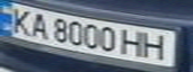0: (100, 24, 121, 54), (81, 21, 100, 51), (66, 19, 84, 47)
8: (48, 16, 69, 44)
A: (24, 11, 51, 39)
H: (139, 30, 175, 62), (118, 27, 148, 57)
K: (3, 6, 36, 35)
